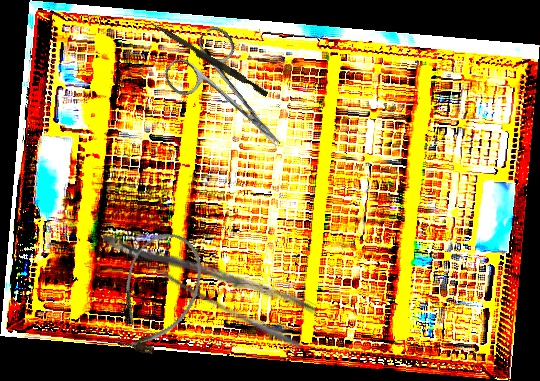Cannula: (100, 222, 216, 365)
Dressing Forceps: (96, 196, 322, 354)
Iris Scissors: (158, 22, 306, 173)
Pusher: (148, 21, 271, 98)
